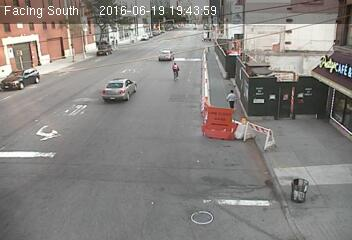neg: (165, 59, 184, 84), (202, 27, 212, 41)
pos: (222, 88, 239, 110)
